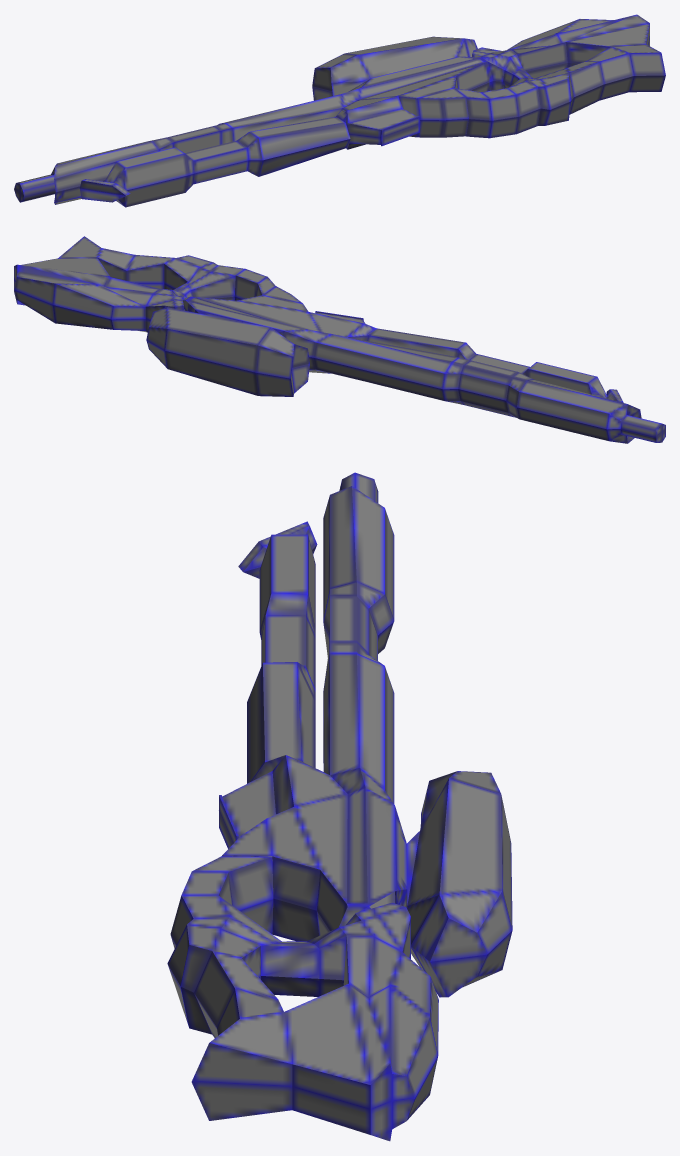
File: SniperRifle.fbx
3 views of the same model, one above another, from view 1: azimuth 30°, elevation 25°; view 2: azimuth 150°, elevation 25°; view 3: azimuth 270°, elevation 25° (orthographic). The views are drawn at different scales.
Parts seen in each view (by area): view 1: pCube1; view 2: pCube1; view 3: pCube1.
Part boxes in pixels (x1,y1,x2,y2): pCube1: (14,14,665,207); pCube1: (14,236,665,443); pCube1: (167,472,512,1141).
Bounding box in the file's own units: 1.47 × 0.1456 × 0.3461.
1 material, 1 textured.
